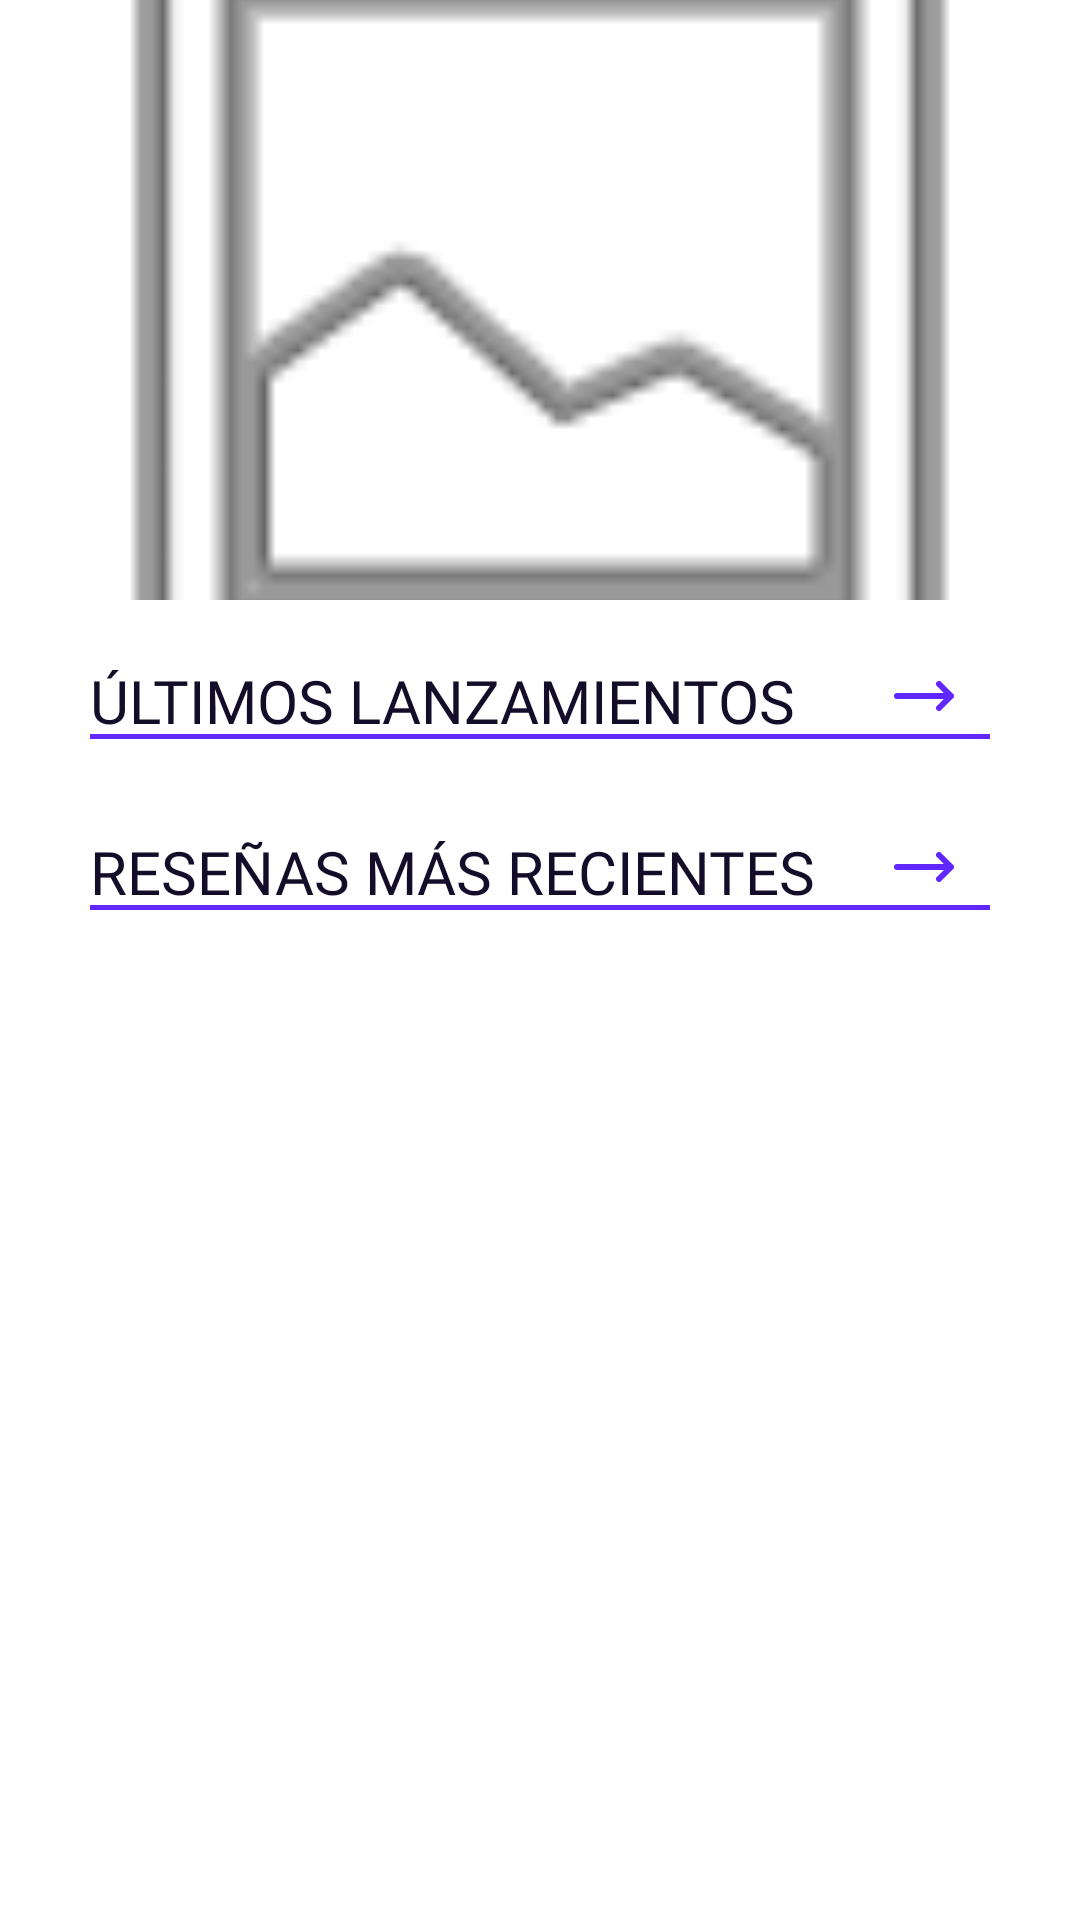

Icon click points for this 1080w x 1920h phone screenshot, format [x,y]:
flecha adelante: [924,696], [924,867]
